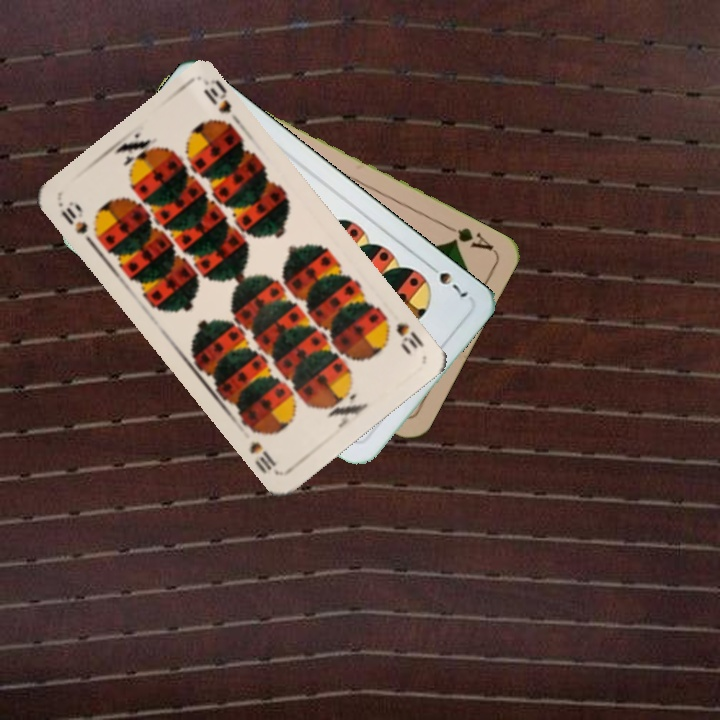GA: (441, 221, 496, 254)
S10: (378, 311, 427, 357), (56, 197, 91, 237)
S7: (423, 259, 472, 300)
